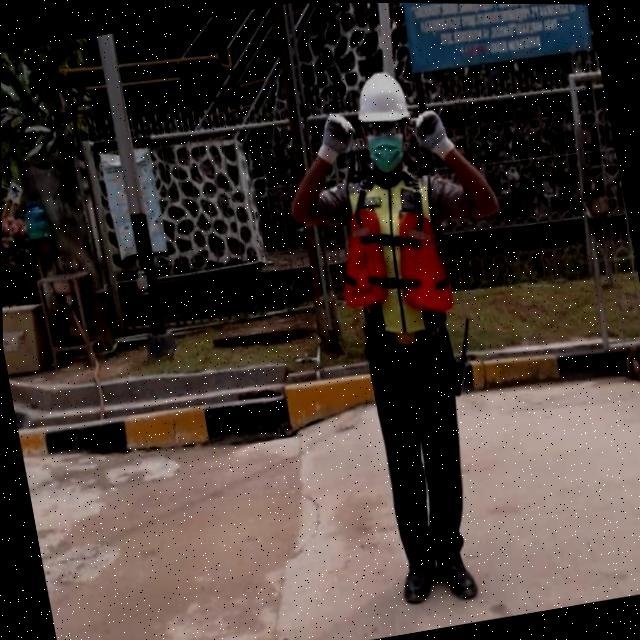goggles_on: (362, 117, 406, 139)
